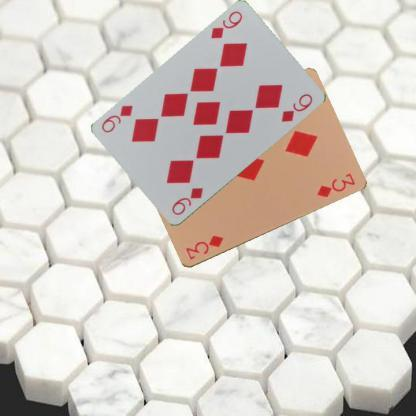3d: (182, 232, 224, 261)
9d: (208, 8, 244, 41), (168, 185, 204, 217)
